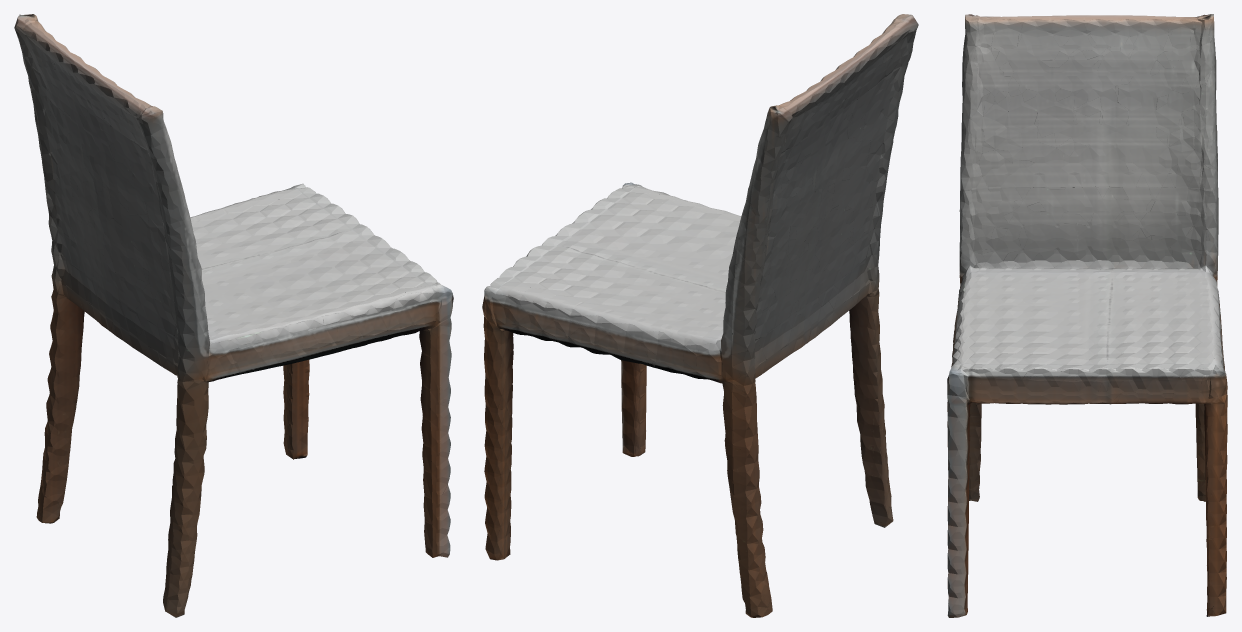
File: elem_115_131_206_213_4_2.obj
3 renders of one model, left to right at view 1: azimuth 30°, elevation 25°; view 2: azimuth 150°, elevation 25°; view 3: azimuth 270°, elevation 25°, orthographic. The views are drawn at different scales.
Size of the model in its own units: 0.4389 by 0.7088 by 0.3793.
1 material, 1 textured.
